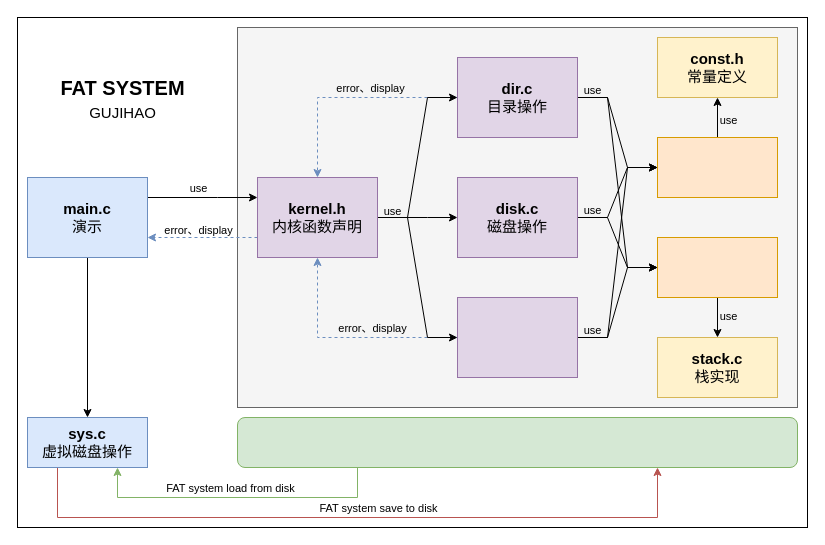
The diagram is 825 pixels wide and 545 high, and some of its shapes have lost their labels. Each missing label, with the centre of its shape:
"DISK" belongs at point (517, 442).
"fat16.h FAT结构体定义" belongs at point (717, 167).
"file.c 文件操作" belongs at point (517, 337).
"stack.h 栈定义" belongs at point (717, 267).
